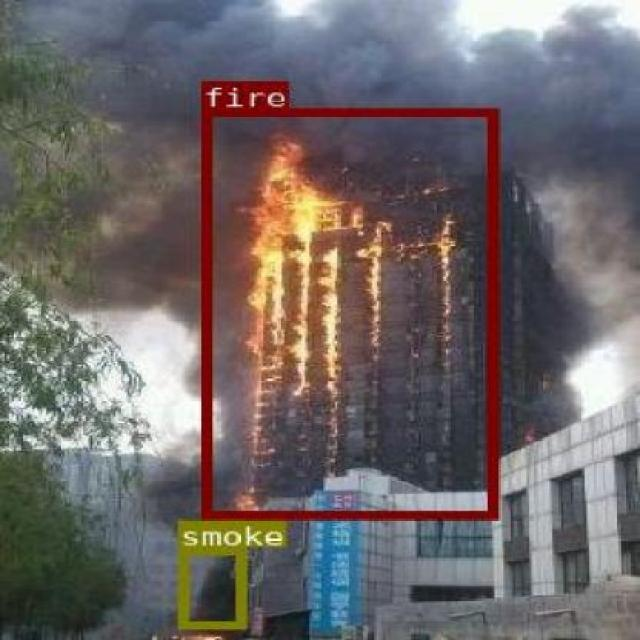Fire: (200, 108, 494, 517)
Smoke: (177, 546, 245, 628)
